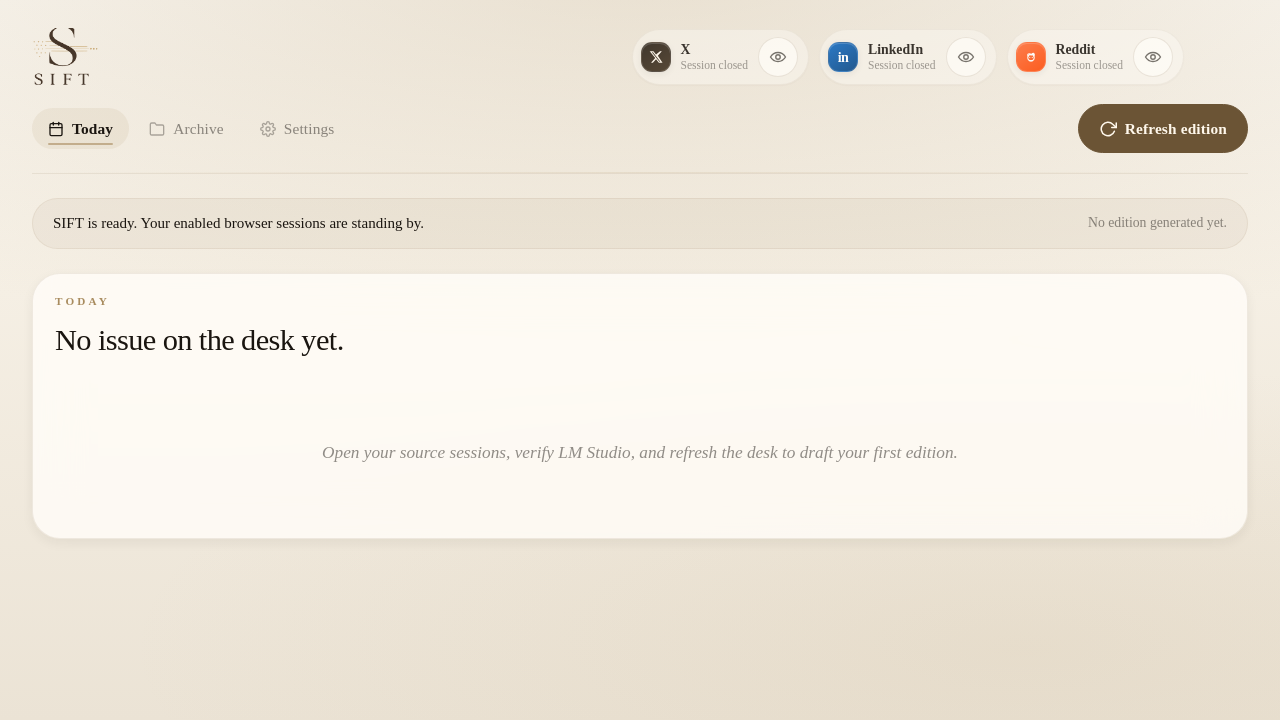
Scenario: App › shows an empty archive state when there are no saved editions
This screenshot has width=1280, height=720.
Expected: the text "SIFT is ready." is shown, [53, 215, 424, 231]
What coordinates should you click on to do the following:
click the button "Archive"
I would click on:
 (186, 129)
Its box is [133, 108, 240, 149].
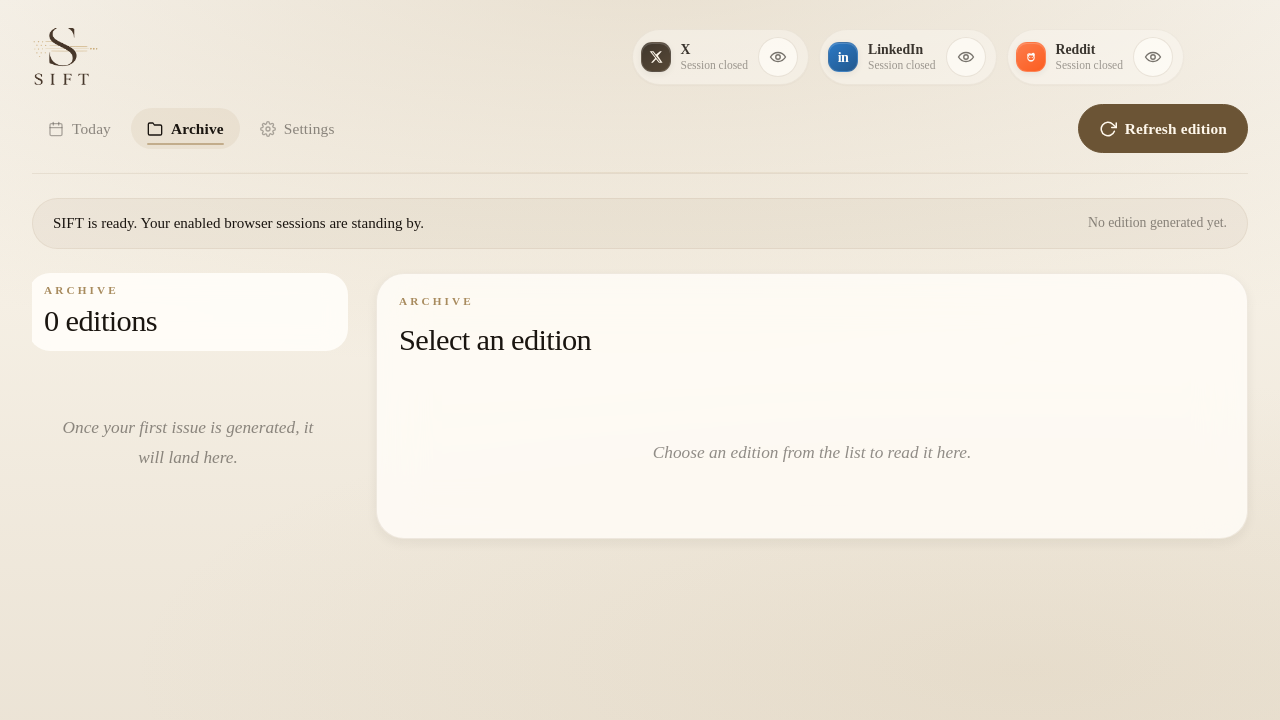
Expected: the text "Once your first issue is generated, it will land here." is shown, [63, 418, 313, 467]
